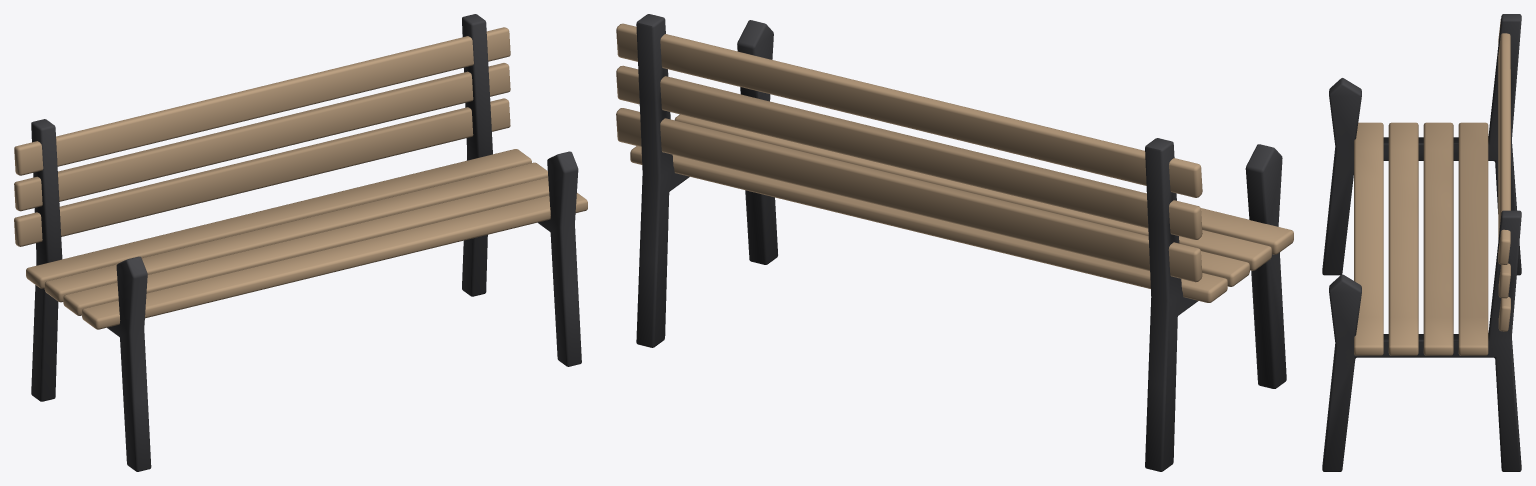
File: bench.glb
3 views of the same model, side by side, from view 1: azimuth 30°, elevation 25°; view 2: azimuth 150°, elevation 25°; view 3: azimuth 270°, elevation 25° (orthographic). The views are drawn at different scales.
Visible parts, largest first — view 1: p_bench; view 2: p_bench; view 3: p_bench.
Part boxes in pixels (x1,y1,x2,y2): p_bench: (14, 14, 587, 471); p_bench: (616, 14, 1293, 471); p_bench: (1322, 14, 1521, 471).
Bounding box in the file's own units: 1.6 × 0.85 × 0.599.
